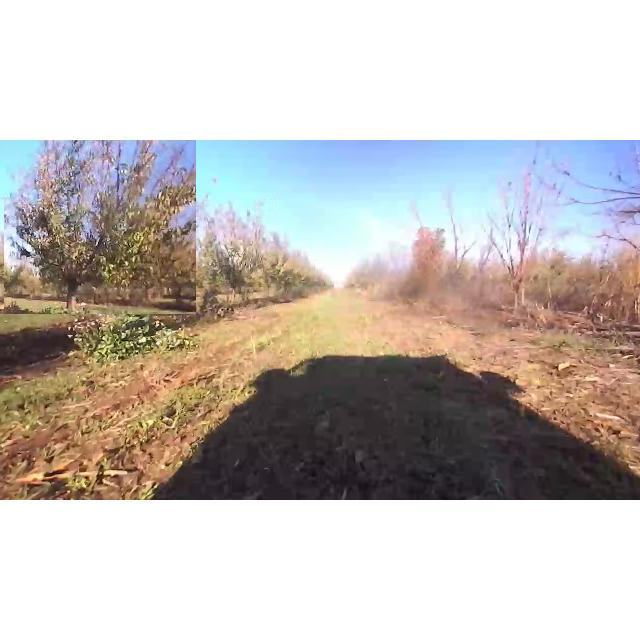direk: (0, 140, 196, 314), (476, 150, 574, 322), (396, 178, 492, 302), (192, 199, 276, 309)
